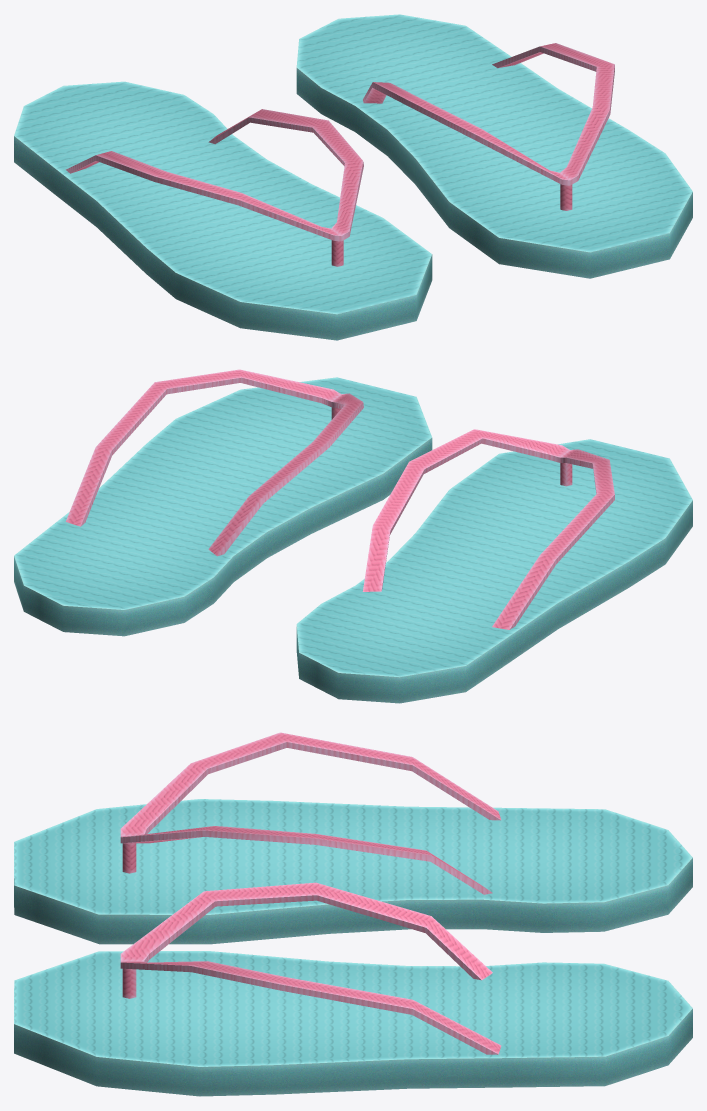
The model's file is flip_flops.fbx.
3 renders of one model, top to bottom at view 1: azimuth 30°, elevation 25°; view 2: azimuth 150°, elevation 25°; view 3: azimuth 270°, elevation 25°, orthographic. The views are drawn at different scales.
Parts seen in each view (by area): view 1: flip_flops_mesh; view 2: flip_flops_mesh; view 3: flip_flops_mesh.
Boxes of the visible parts, <box> form: flip_flops_mesh: <box>14,14,692,340</box>; flip_flops_mesh: <box>14,369,692,703</box>; flip_flops_mesh: <box>14,732,692,1096</box>.
Bounding box in the file's own units: 0.3265 × 0.0591 × 0.3495.
